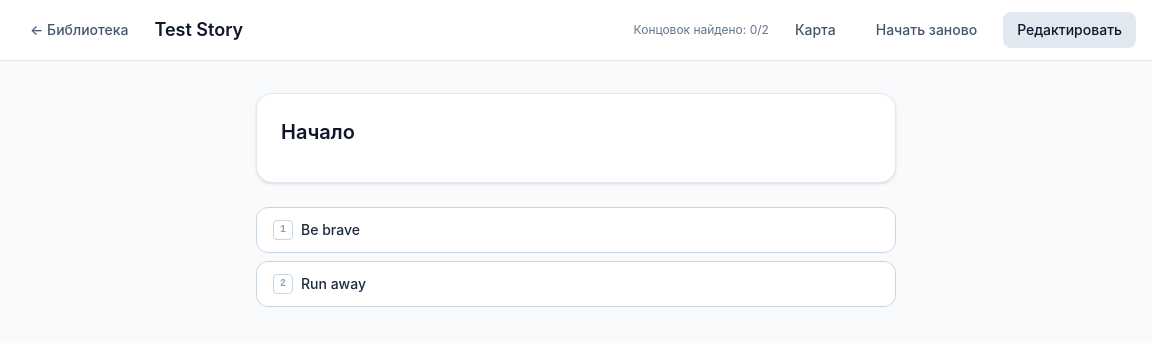
Test: PlayerScreen › resets to the start node mid-playthrough via header "Начать заново"
Click the button "1 Be brave".
click(330, 230)  # box top-left (256, 207), bottom-right (896, 253)
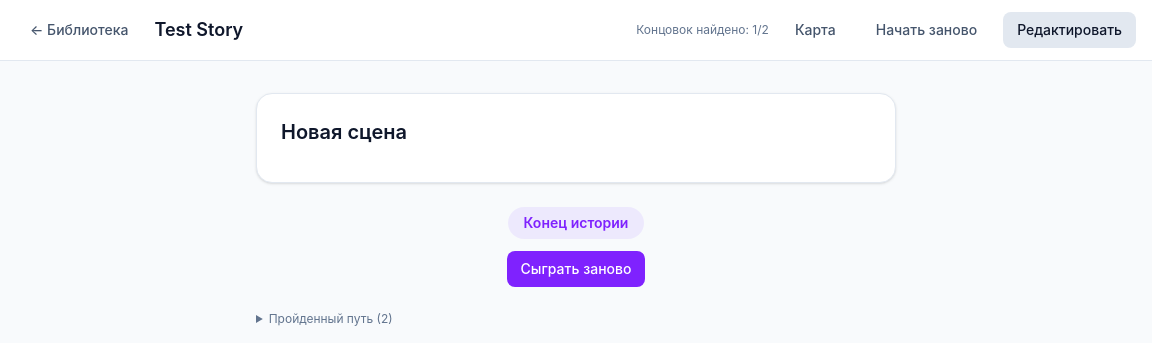
Expected: the heading "Новая сцена" is shown, top-left (281, 120), bottom-right (407, 144)
Click the button "Начать заново".
click(926, 30)  # box top-left (862, 12), bottom-right (991, 48)
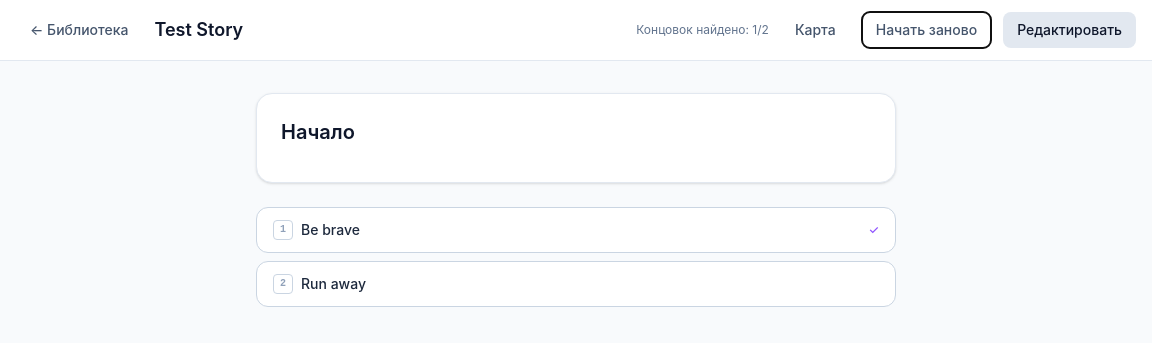
Expected: the heading "Начало" is shown, top-left (281, 120), bottom-right (355, 144)
Expected: the heading "Пройденный путь" is gone
